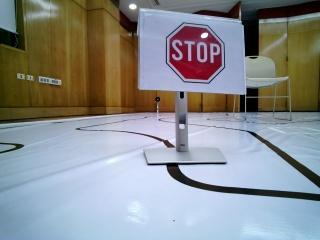stop: (141, 18, 241, 88)
